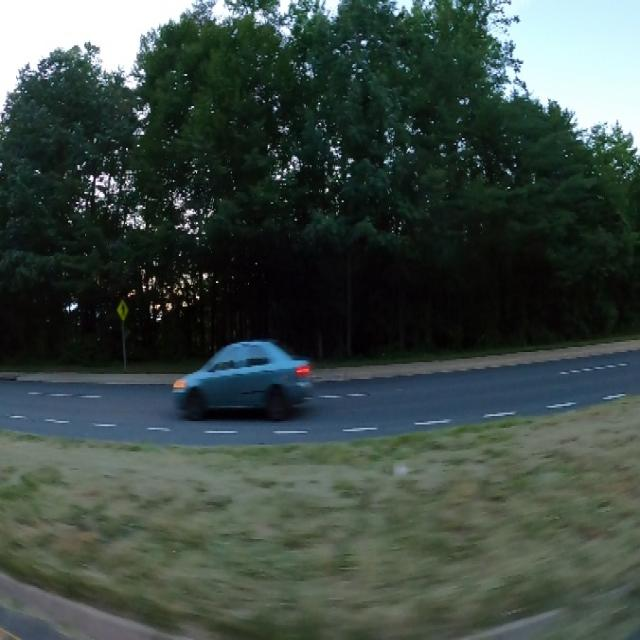cars: (172, 324, 318, 438)
